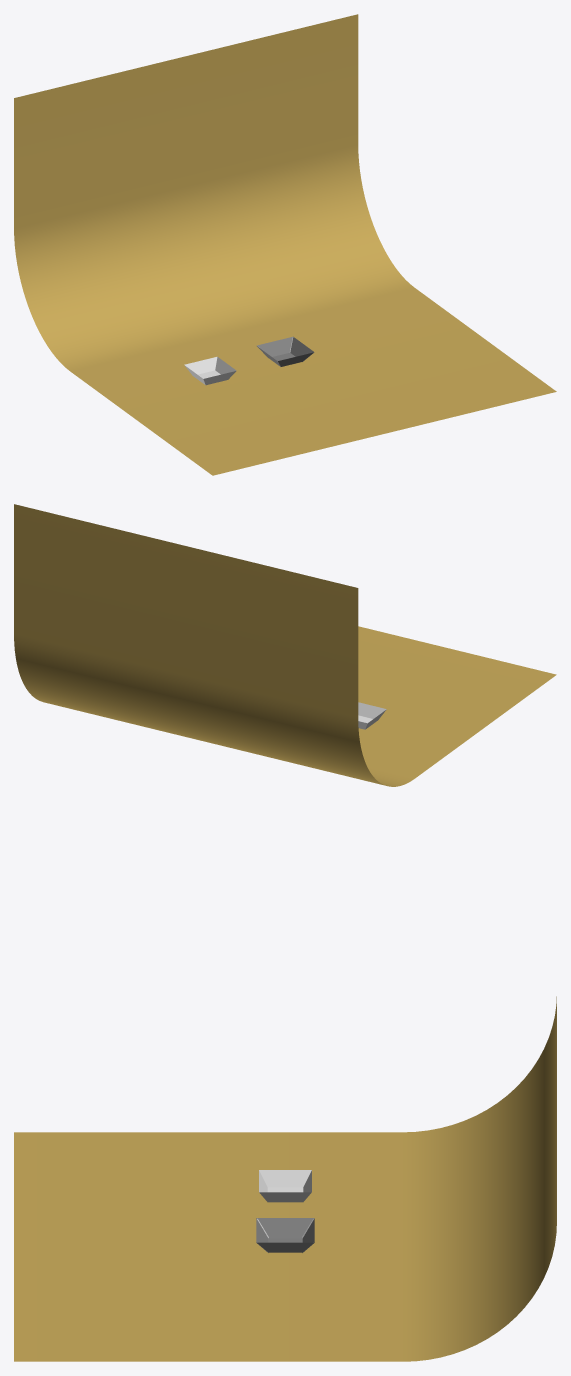
The model's file is sheet_metal_4.fbx.
3 views of the same model, one above another, from view 1: azimuth 30°, elevation 25°; view 2: azimuth 150°, elevation 25°; view 3: azimuth 270°, elevation 25° (orthographic). The views are drawn at different scales.
Visible parts, largest first — view 1: Plane, sheet_metal, Plane.001; view 2: Plane, Plane.001; view 3: Plane, sheet_metal, Plane.001.
Boxes of the visible parts, x1=… form: Plane: x1=14, y1=14, x2=556, y2=475; sheet_metal: x1=257, y1=336, x2=314, y2=366; Plane.001: x1=184, y1=356, x2=236, y2=385; Plane: x1=14, y1=504, x2=556, y2=786; Plane.001: x1=358, y1=702, x2=386, y2=729; Plane: x1=14, y1=996, x2=556, y2=1361; sheet_metal: x1=256, y1=1218, x2=314, y2=1252; Plane.001: x1=259, y1=1170, x2=311, y2=1202.
Bounding box in the file's own units: 314 × 202 × 314.
